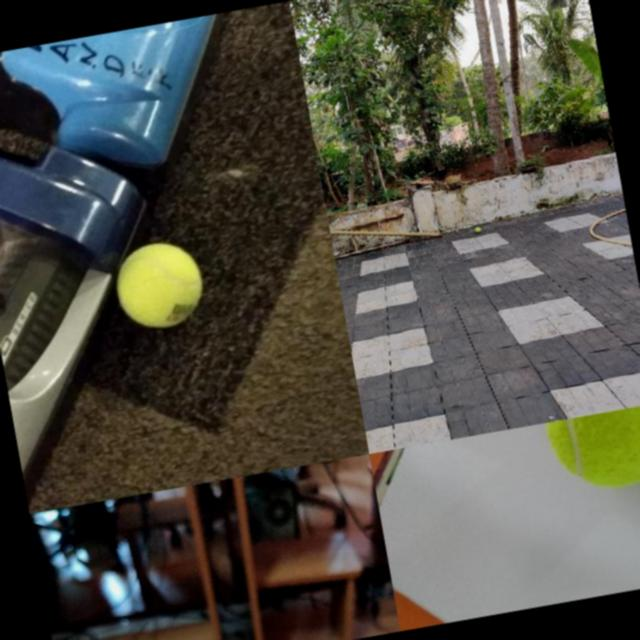tennis-ball: (109, 236, 209, 334), (543, 402, 640, 499), (473, 226, 480, 233)
